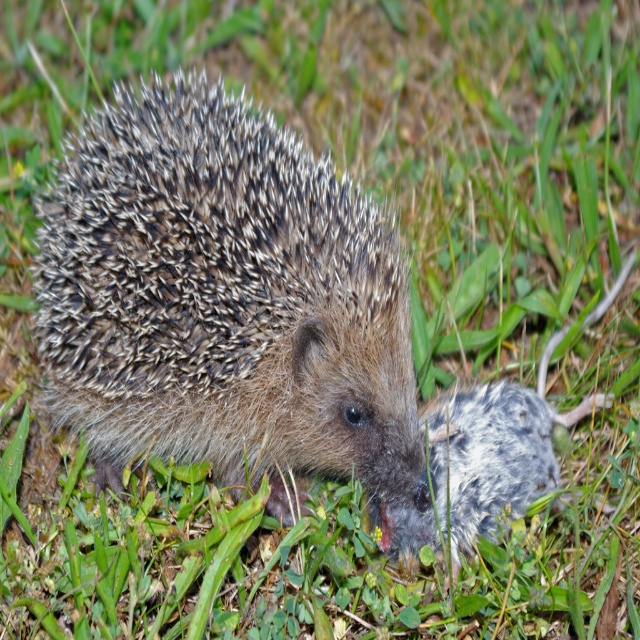Hedgehog: (28, 64, 463, 513)
